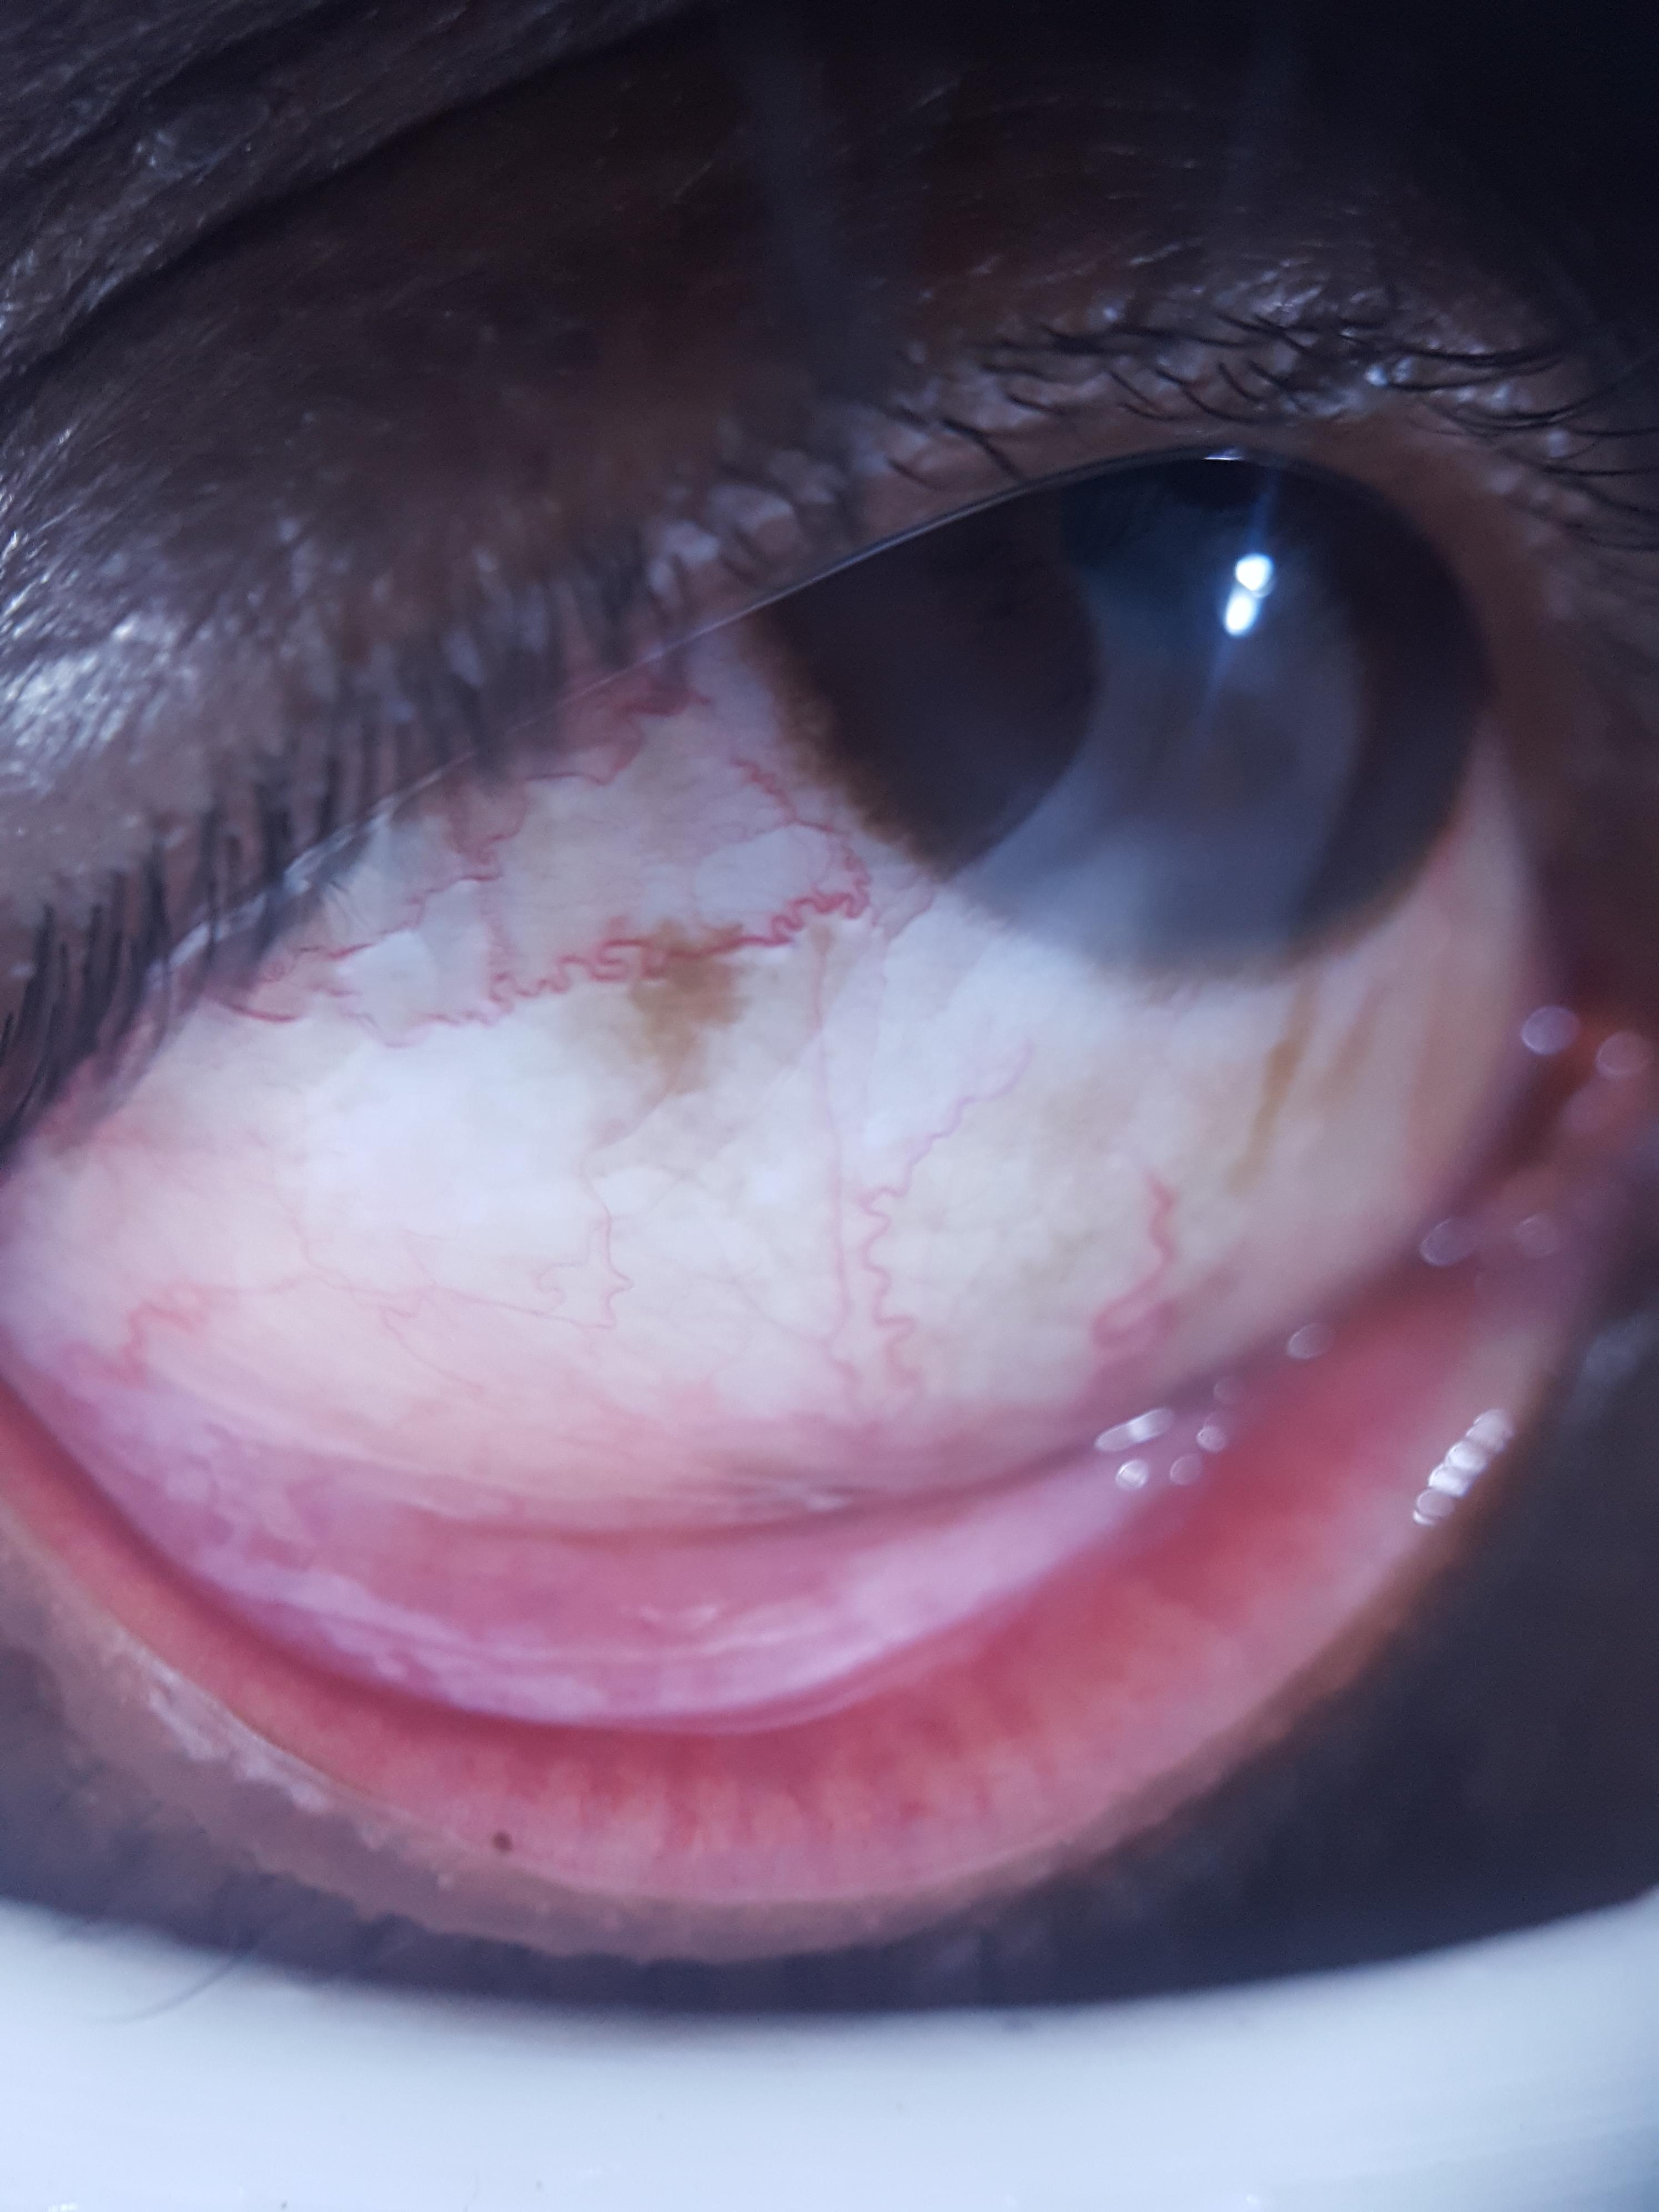forniceal: (0, 1320, 1218, 1724)
forniceal_palpebral: (0, 1268, 1492, 1839)
palpebral: (0, 1273, 1485, 1834)
